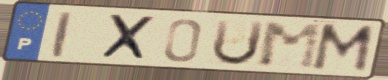0: (162, 17, 205, 63)
I: (51, 9, 75, 59)
M: (308, 22, 378, 75), (256, 21, 326, 72)
U: (209, 18, 268, 68)
X: (98, 12, 158, 63)
